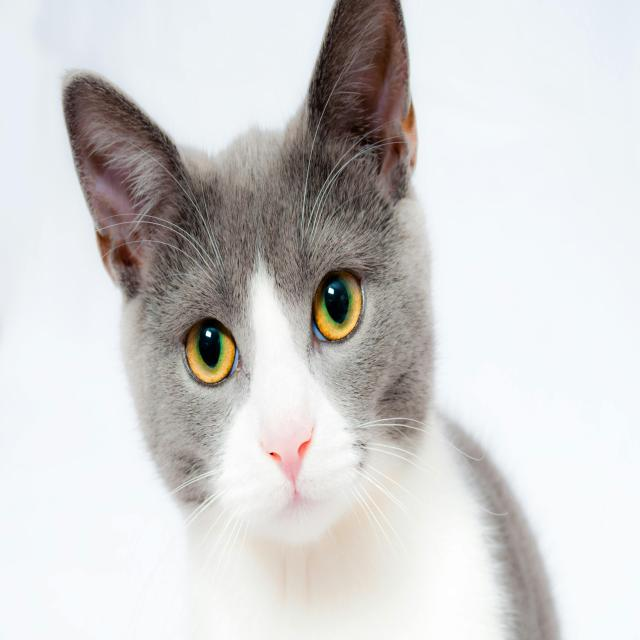cat: (62, 2, 558, 638)
